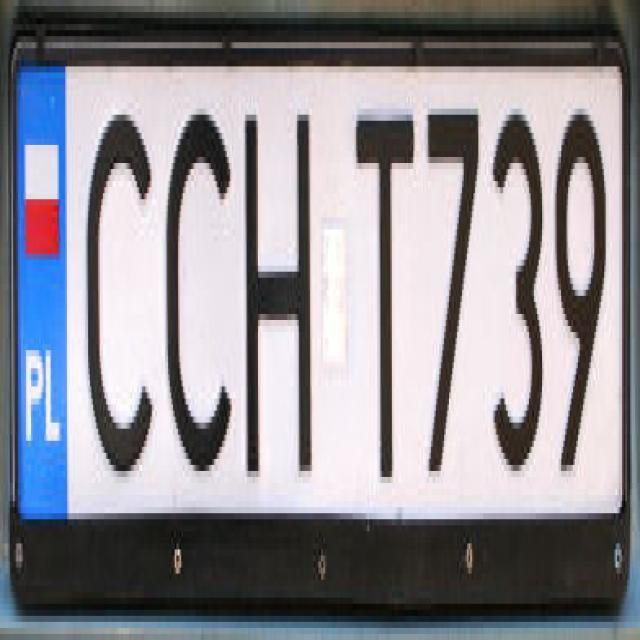pl_license_plate: (11, 36, 624, 519)
